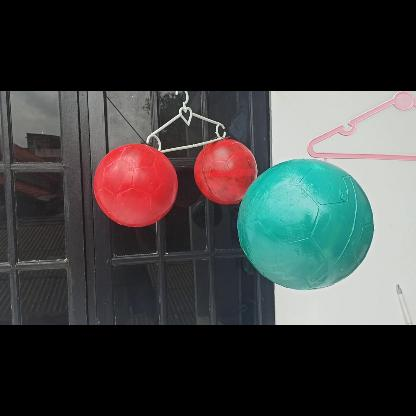red_ball: (94, 142, 176, 226), (192, 140, 256, 202)
